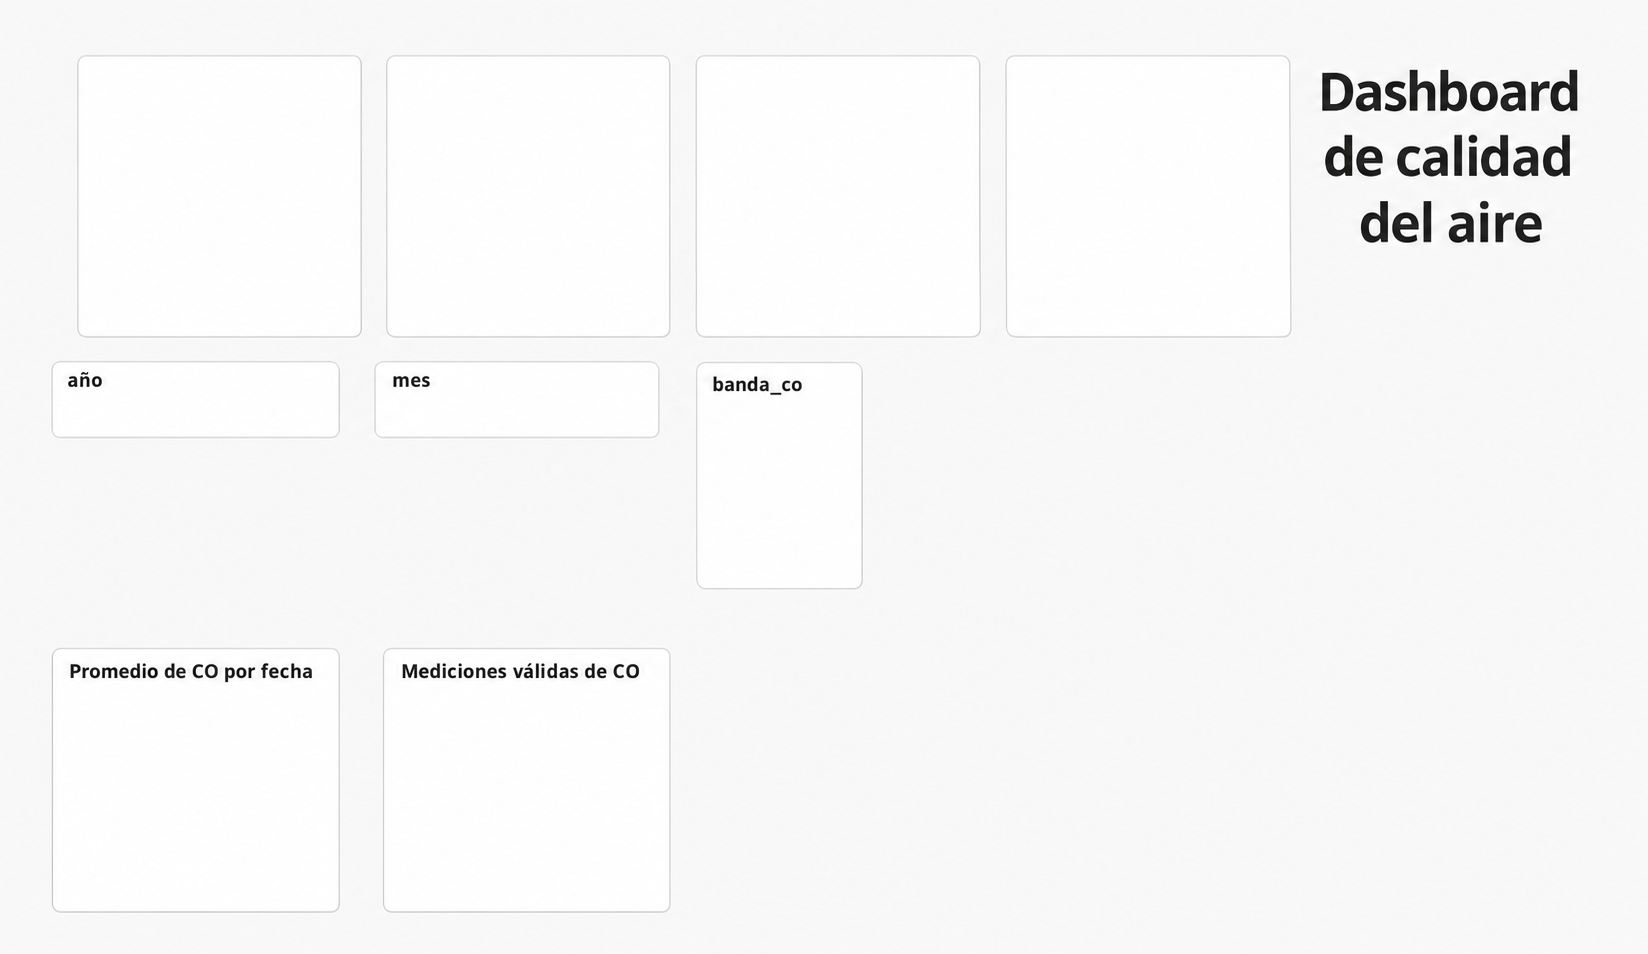

The page's visual inventory and layout, read from the dashboard file:
{"tool":"powerbi","page":{"name":"Página 1","canvas":[1920,1080],"ordinal":0},"visuals":[{"type":"cardVisual","fields":{"Data":["Avg(hecho_calidad_aire.co_gt)"]},"box":[425.1,120.9,300,300],"z":0},{"type":"cardVisual","fields":{"Data":["Avg(hecho_calidad_aire.no2_gt)"]},"box":[74.7,120.9,300,300],"z":1000},{"type":"clusteredColumnChart","fields":{"Category":["hecho_calidad_aire.banda_co"],"Y":["CountNonNull(hecho_calidad_aire.banda_co)"]},"box":[758.7,120.9,300,300],"z":2000},{"type":"scatterChart","fields":{"Category":["hecho_calidad_aire.medicion_id"],"X":["Sum(hecho_calidad_aire.co_gt)"],"Y":["Sum(hecho_calidad_aire.pt08_s1_co)"]},"box":[1088,120,300,300],"z":3000},{"type":"slicer","fields":{"Values":["dim_tiempo.anio"]},"box":[74,432,300,300],"z":4000},{"type":"slicer","fields":{"Values":["dim_tiempo.mes"]},"box":[425,431,300,300],"z":5000},{"type":"slicer","fields":{"Values":["hecho_calidad_aire.banda_co"]},"box":[788.2,461.2,300,300],"z":6000},{"type":"textbox","box":[1398,120,300,300],"z":7000}]}

Visuals, with their boxes in screenshot pixels (x1, y1, x2, y2), scaled from the page's 1920x1080 canvas onto the 1648x954 screenshot:
cardVisual - Avg(hecho_calidad_aire.co_gt): box=[365, 107, 622, 372]
cardVisual - Avg(hecho_calidad_aire.no2_gt): box=[64, 107, 322, 372]
clusteredColumnChart - hecho_calidad_aire.banda_co x CountNonNull(hecho_calidad_aire.banda_co): box=[651, 107, 909, 372]
scatterChart - hecho_calidad_aire.medicion_id x Sum(hecho_calidad_aire.co_gt): box=[934, 106, 1191, 371]
slicer - dim_tiempo.anio: box=[64, 382, 321, 647]
slicer - dim_tiempo.mes: box=[365, 381, 622, 646]
slicer - hecho_calidad_aire.banda_co: box=[677, 407, 934, 672]
textbox: box=[1200, 106, 1457, 371]
